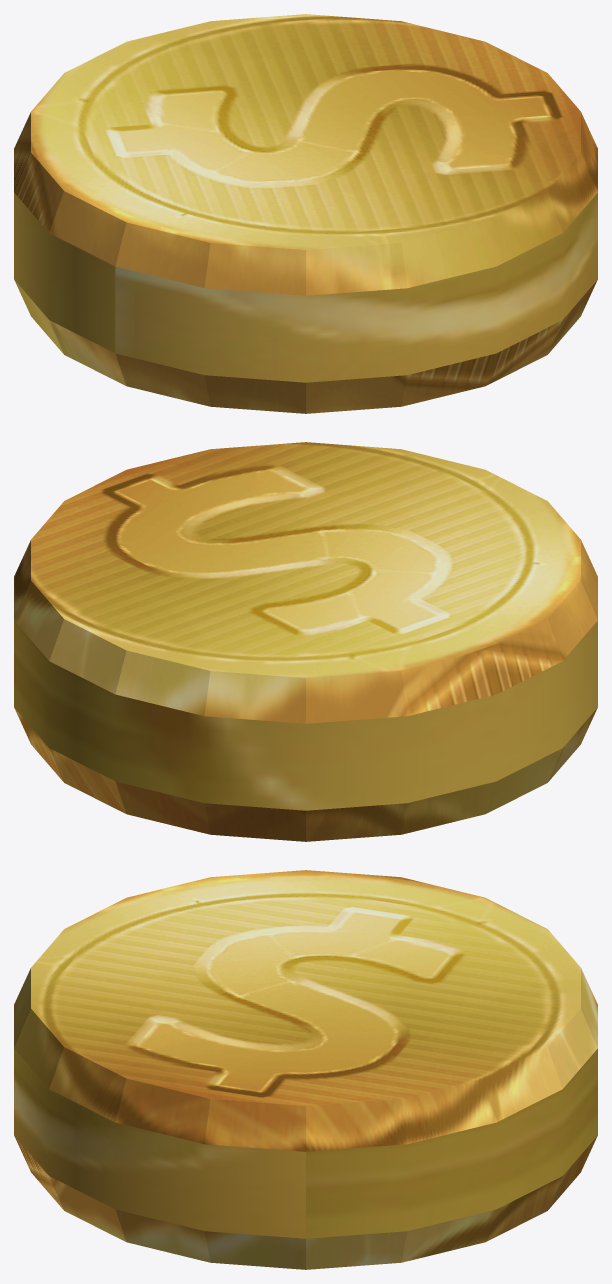
Rendered from coin.FBX.
3 views of the same model, one above another, from view 1: azimuth 30°, elevation 25°; view 2: azimuth 150°, elevation 25°; view 3: azimuth 270°, elevation 25° (orthographic).
Visible parts, largest first — view 1: Cylinder001; view 2: Cylinder001; view 3: Cylinder001.
Part boxes in pixels (x1,y1,x2,y2): Cylinder001: (14, 14, 597, 413); Cylinder001: (14, 442, 597, 841); Cylinder001: (14, 870, 597, 1269).
Size of the model in its own units: 5218 by 1590 by 5138.
